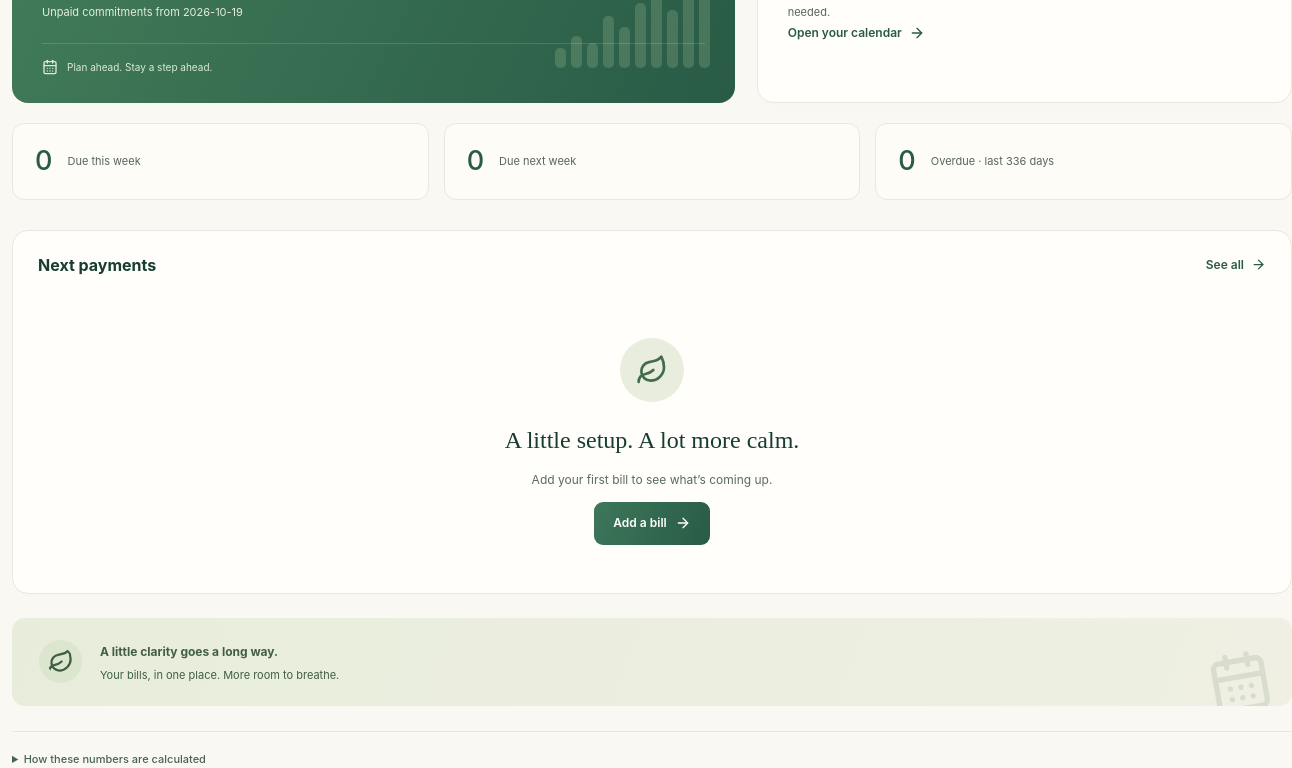
Test: onboarding and page states › renders original currency totals and visible assumptions
(page scrolled)
Click the heading "How these numbers are calculated".
click(115, 759)  # box [24, 752, 206, 766]
(page scrolled)
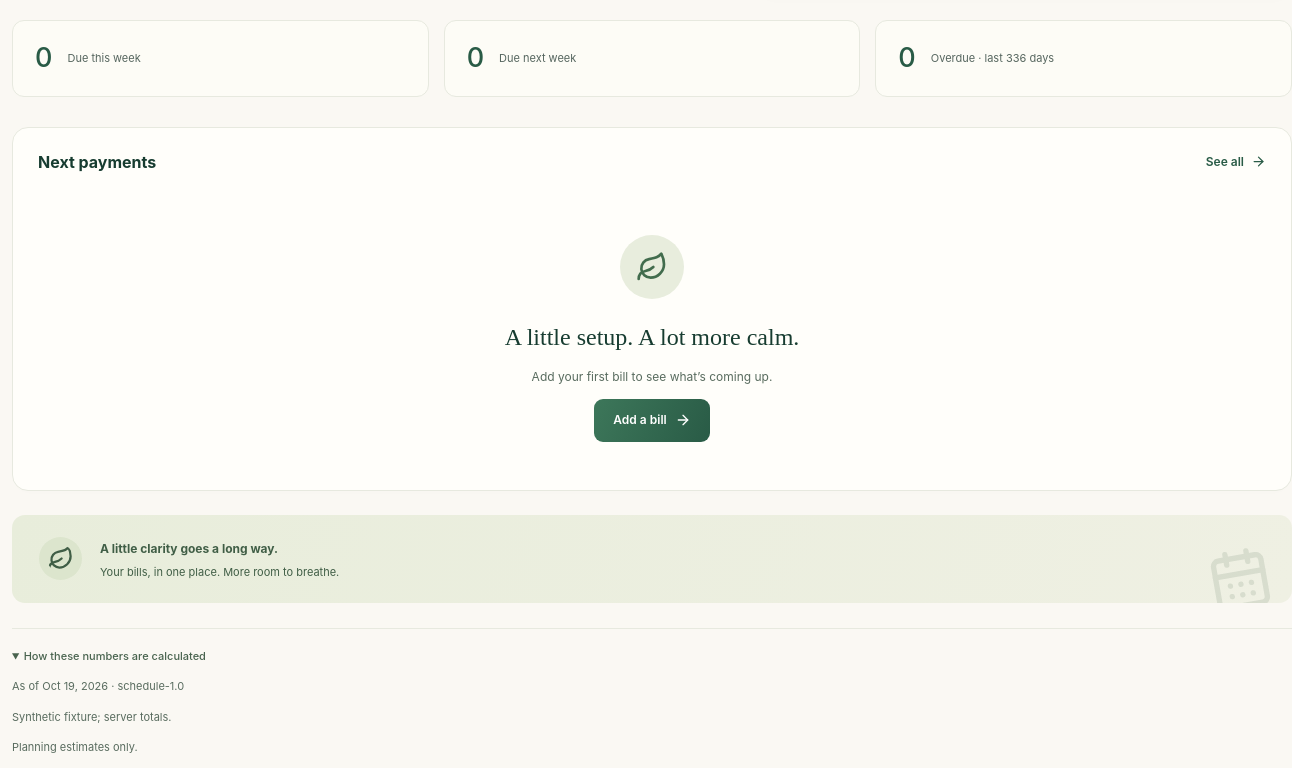
Check: the list item "Synthetic fixture; server totals." is shown, box [12, 710, 172, 724]
